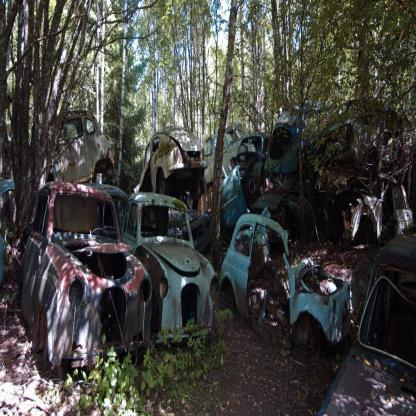Car: (0, 96, 416, 416)
